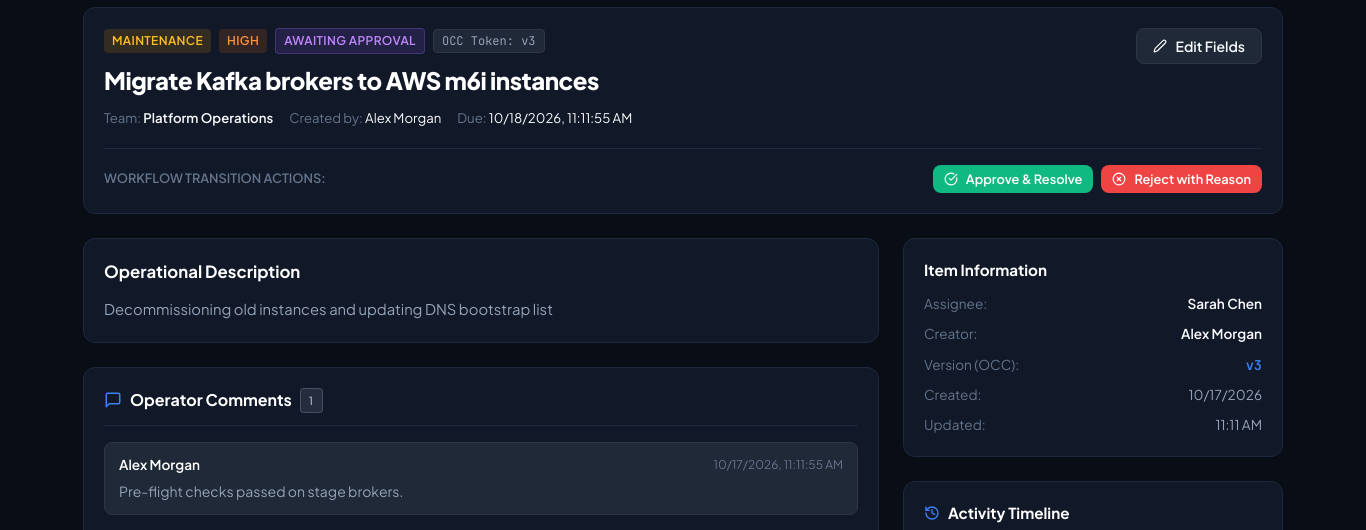
Scenario: WorkItemDetailPage Component › renders prominent Concurrency Conflict (HTTP 409) banner when edit conflict occurs
The image size is (1366, 530).
Click the button "Edit Fields" at (1199, 46), box [1136, 28, 1262, 64]
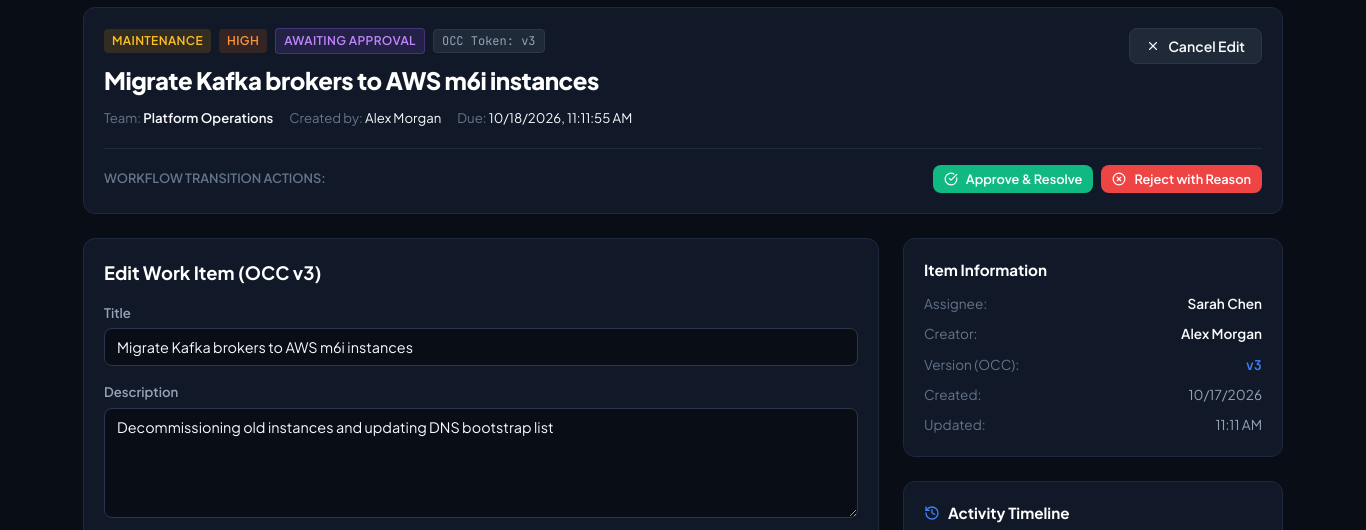
Replace the text in the field labelled "Title" with "Updated Kafka Title" at (481, 347), box [104, 328, 858, 366]
(page scrolled)
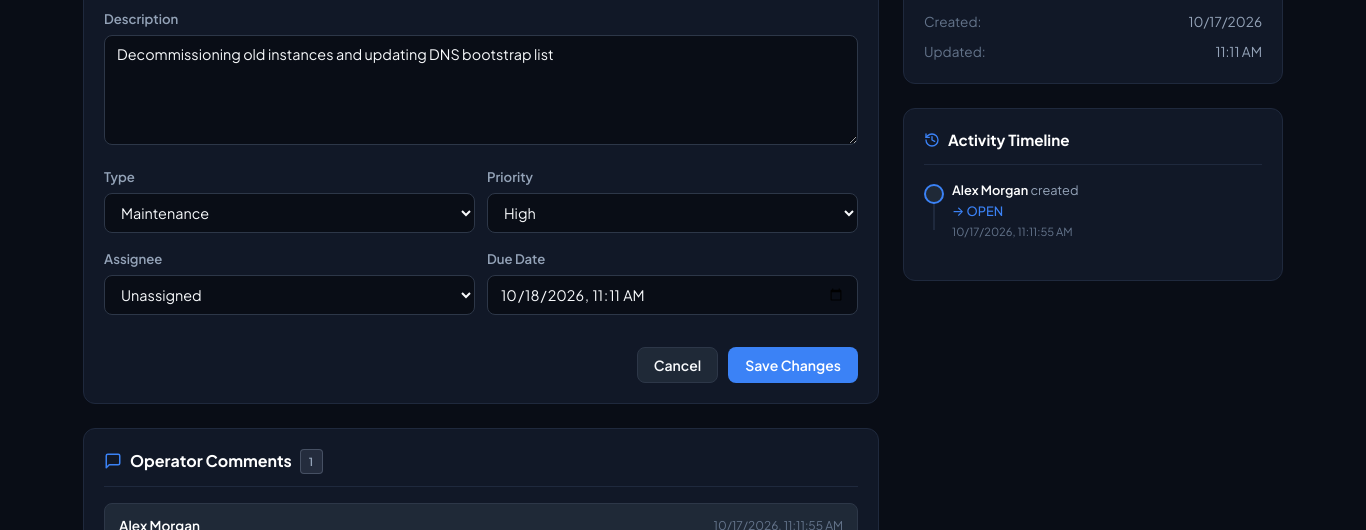
Click the button "Save Changes" at (793, 365), box [728, 347, 858, 383]
(page scrolled)
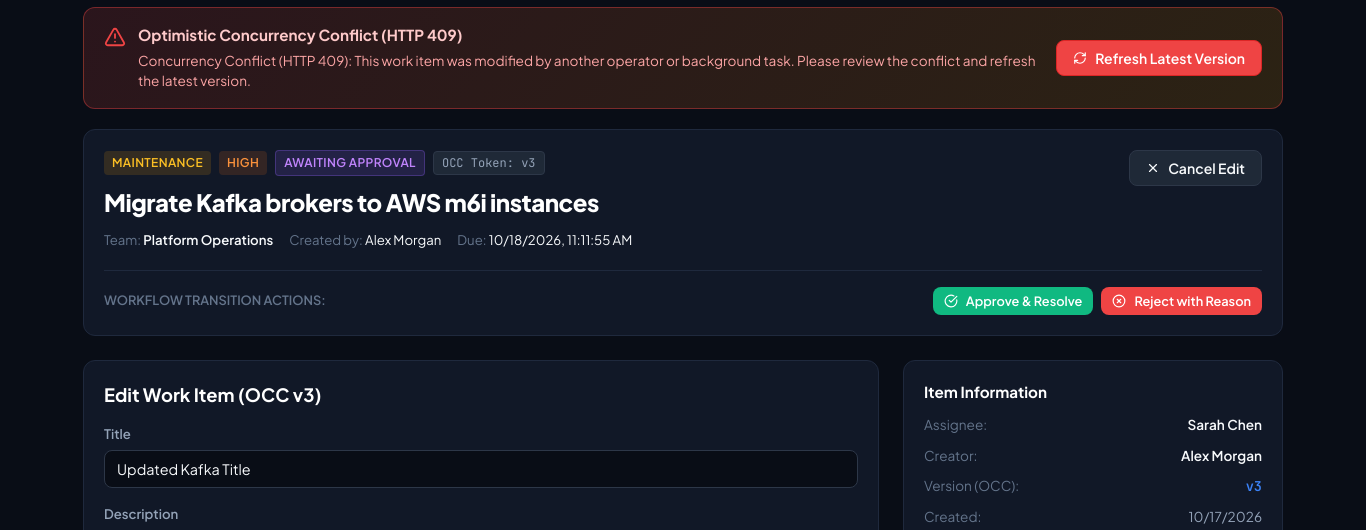
Now the text "Optimistic Concurrency Conflict (HTTP 409)" is shown, box [138, 25, 462, 44]
Now the button "Refresh Latest Version" is shown, box [1056, 40, 1262, 76]
